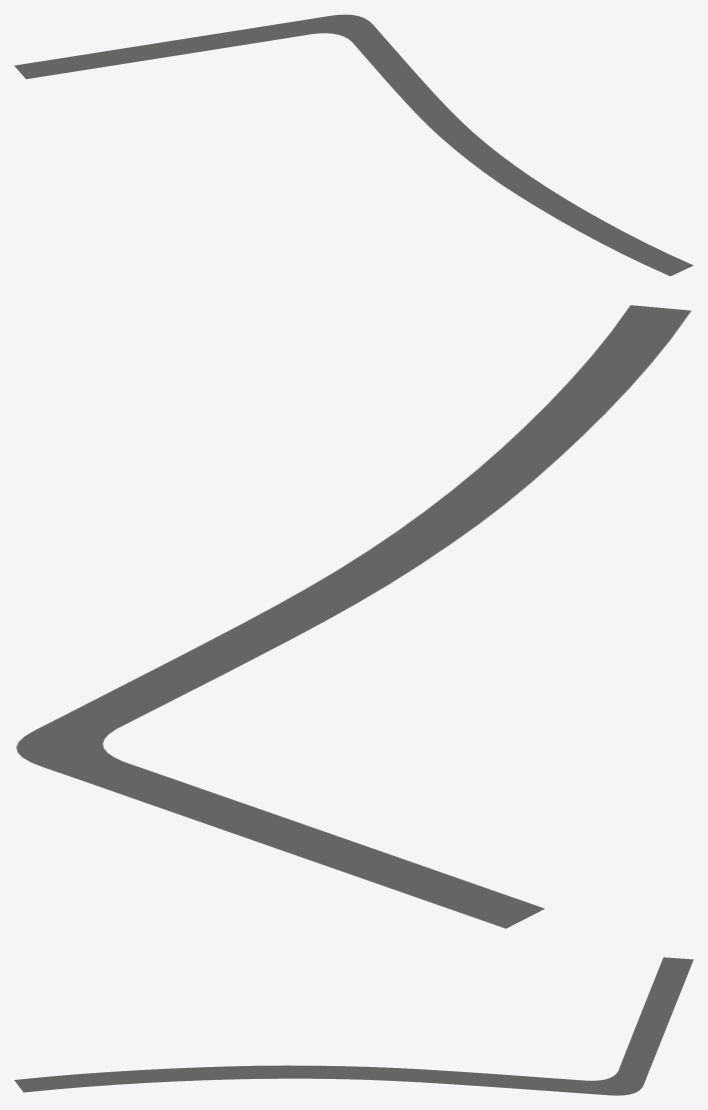
The model's file is Club_VIPFloorStrip_02.FBX.
3 renders of one model, top to bottom at view 1: azimuth 30°, elevation 25°; view 2: azimuth 150°, elevation 25°; view 3: azimuth 270°, elevation 25°, orthographic. The views are drawn at different scales.
Visible parts, largest first — view 1: Club_VIPFloorStrip_02; view 2: Club_VIPFloorStrip_02; view 3: Club_VIPFloorStrip_02.
Boxes of the visible parts, x1,y1,x2,y2 form: Club_VIPFloorStrip_02: (14,14,693,276); Club_VIPFloorStrip_02: (16,305,691,928); Club_VIPFloorStrip_02: (14,957,693,1095).
Size of the model in its own units: 10.51 by 1.4e-05 by 21.82.
